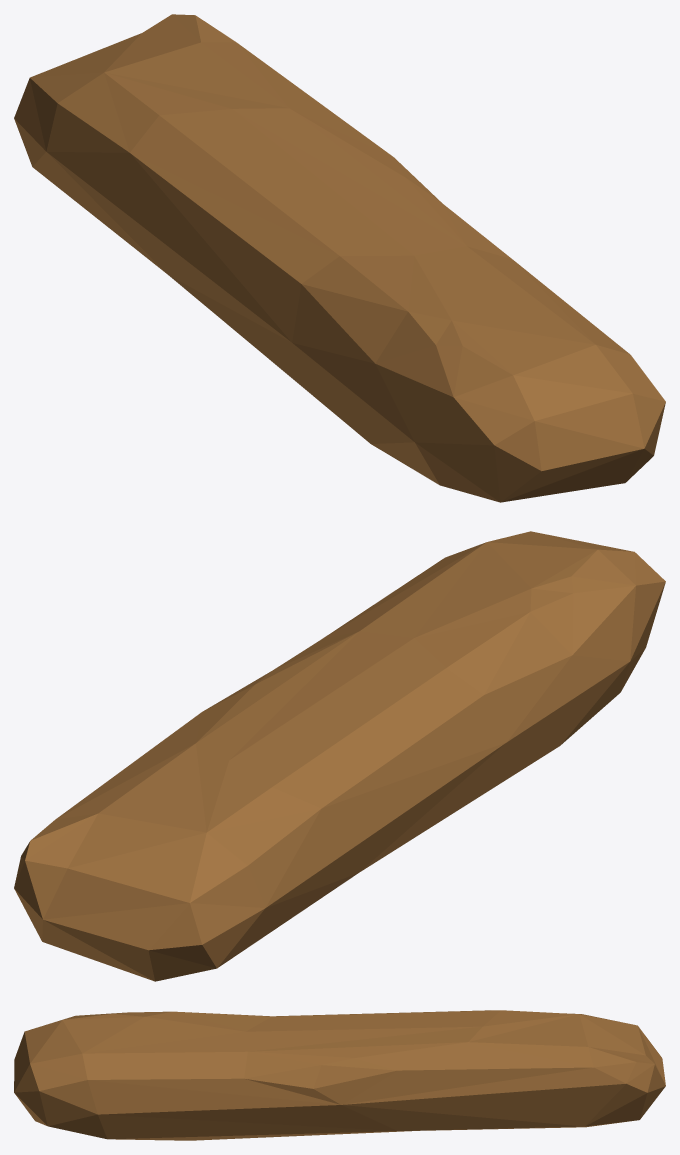
The model's file is wood_rubble.fbx.
The picture shows the model from 3 angles, top to bottom: view 1: azimuth 30°, elevation 25°; view 2: azimuth 150°, elevation 25°; view 3: azimuth 270°, elevation 25°; orthographic projection. The views are drawn at different scales.
Visible parts, largest first — view 1: wood_rubble; view 2: wood_rubble; view 3: wood_rubble.
Part boxes in pixels (bbox=[...]): wood_rubble: bbox=[14, 14, 665, 502]; wood_rubble: bbox=[14, 531, 665, 981]; wood_rubble: bbox=[14, 1010, 665, 1140].
Size of the model in its own units: 0.3659 by 0.2481 by 1.46.
